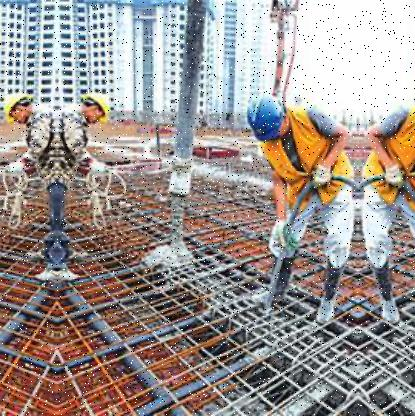helmet: (251, 88, 287, 148), (79, 89, 112, 122), (2, 89, 35, 122)
